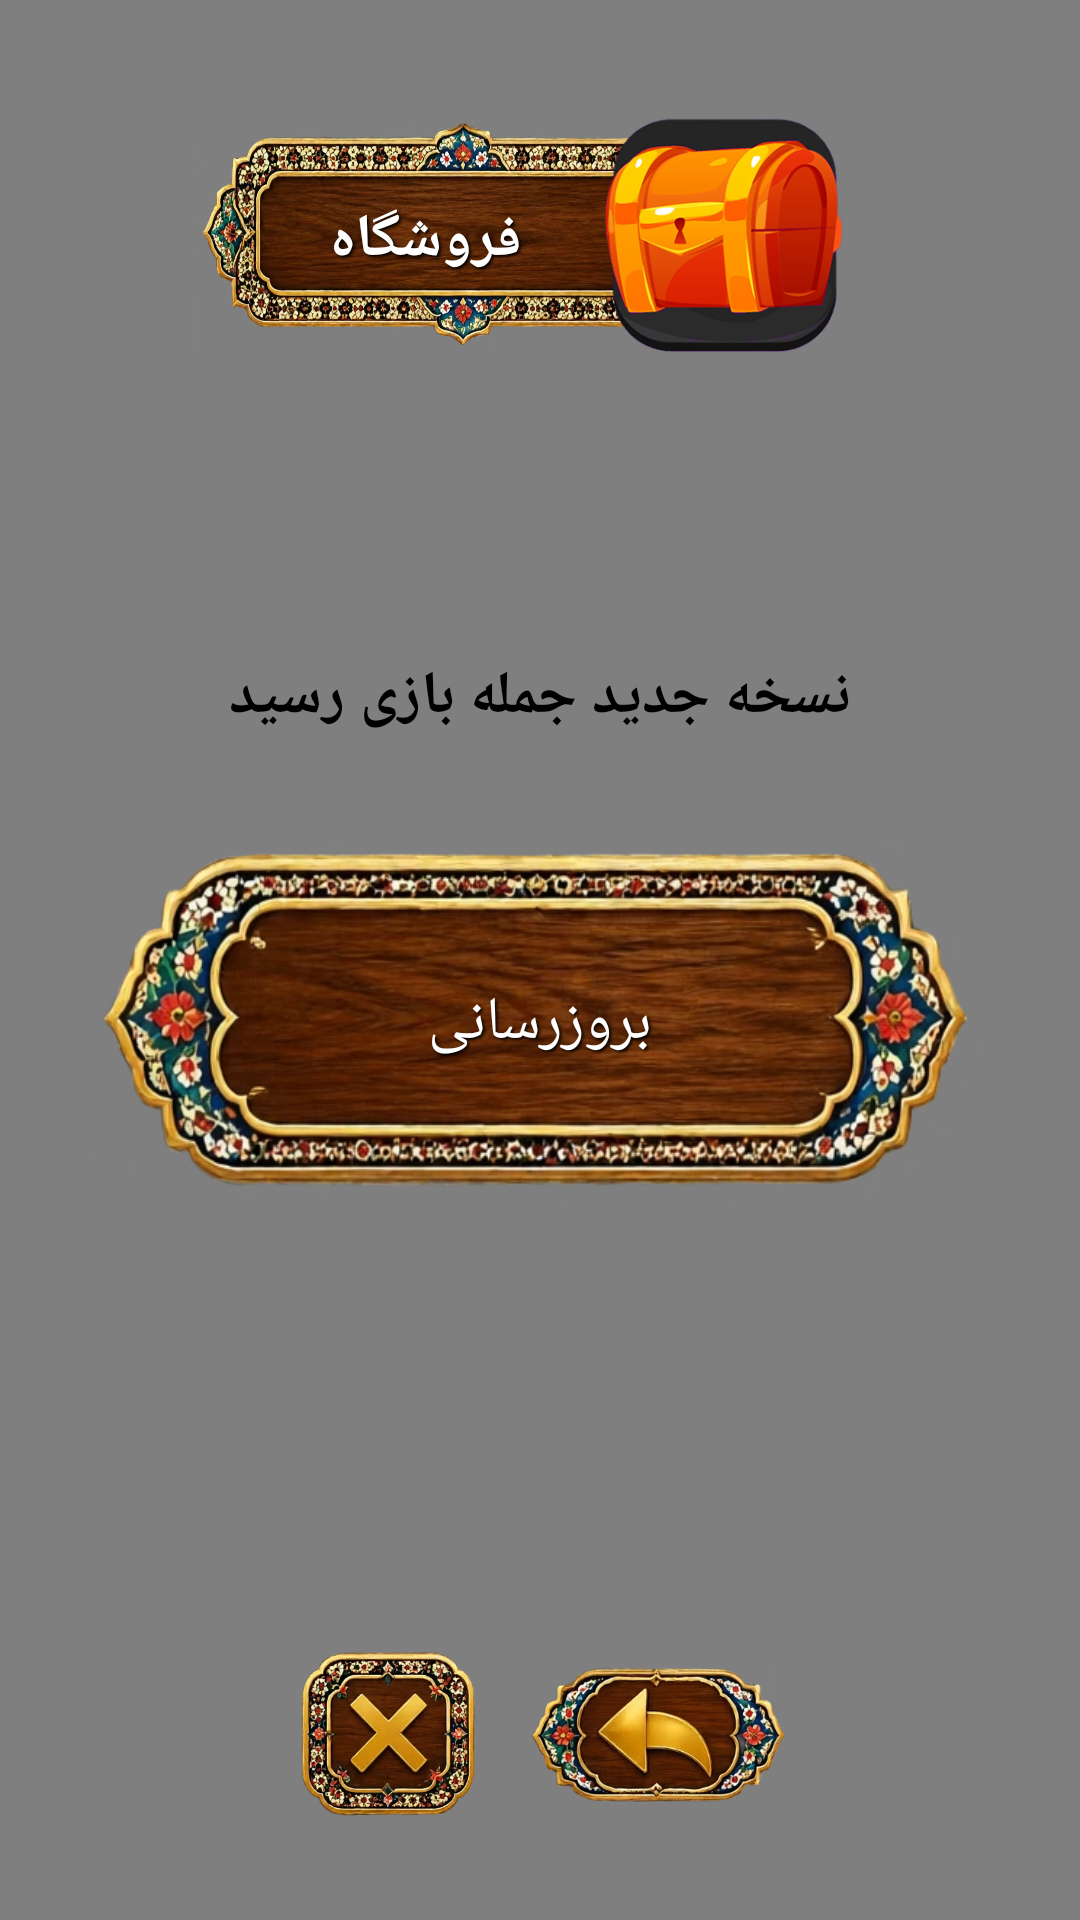

Where to tap for icons on this 1080px x 1920px app screen, as (x=x, y=y):
back: (x=658, y=1735)
close: (x=388, y=1734)
sandogh: (x=713, y=235)
